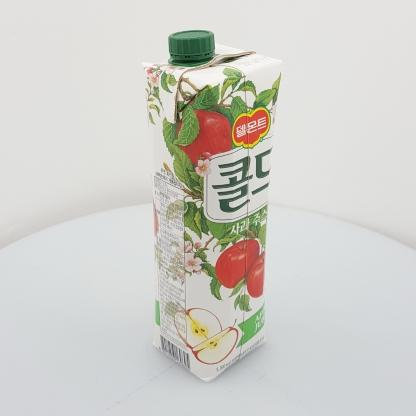------------: (141, 30, 283, 382)
